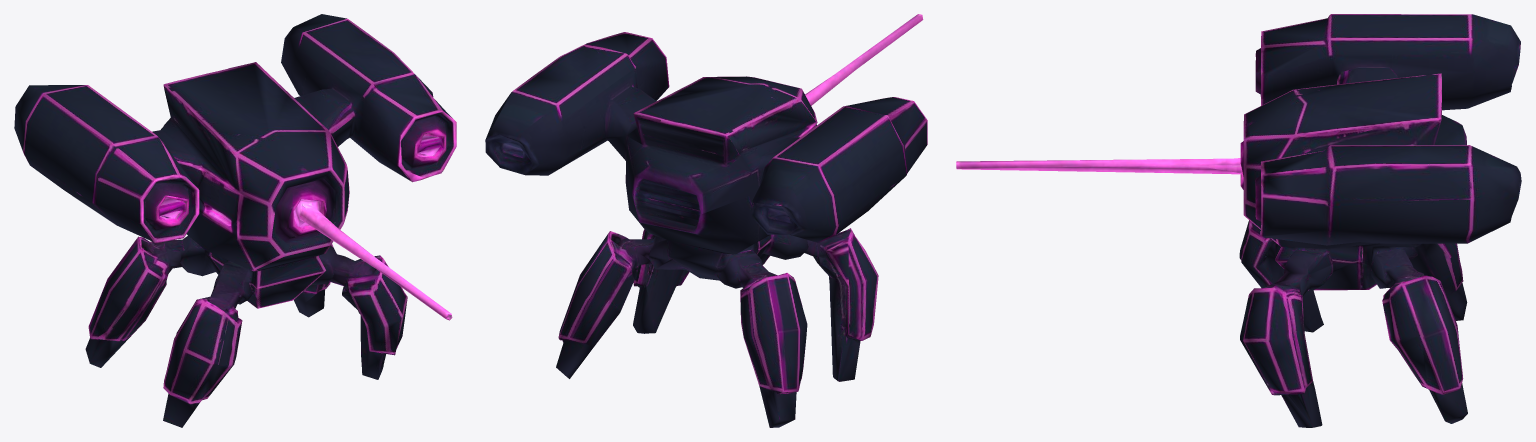
The model's file is drone.glb.
3 views of the same model, side by side, from view 1: azimuth 30°, elevation 25°; view 2: azimuth 150°, elevation 25°; view 3: azimuth 270°, elevation 25° (orthographic).
Visible parts, largest first — view 1: Mesh_0; view 2: Mesh_0; view 3: Mesh_0.
Part boxes in pixels (left/top/right/bottom): Mesh_0: left=14, top=14, right=456, bottom=427; Mesh_0: left=485, top=14, right=927, bottom=427; Mesh_0: left=956, top=14, right=1521, bottom=427.
Size of the model in its own units: 1.36 by 1.08 by 1.91.
1 material, 1 textured.
